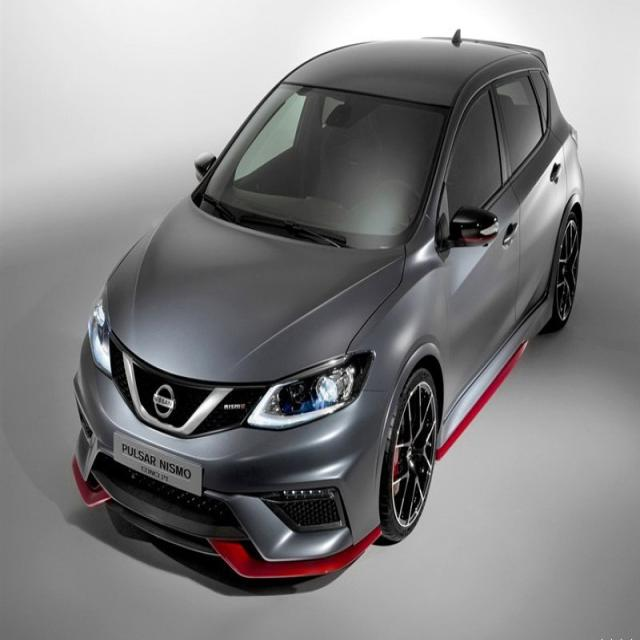door: (498, 62, 560, 336)
front_bumper: (70, 330, 392, 579)
front_glass: (191, 76, 452, 260)
front_left_side_door: (438, 70, 524, 444)
front_left_side_light: (244, 349, 376, 432)
front_left_side_mirror: (448, 203, 500, 251)
front_right_side_light: (86, 278, 112, 382)
front_right_side_mirror: (192, 148, 217, 186)
wheel: (379, 364, 438, 540), (550, 210, 582, 326)
